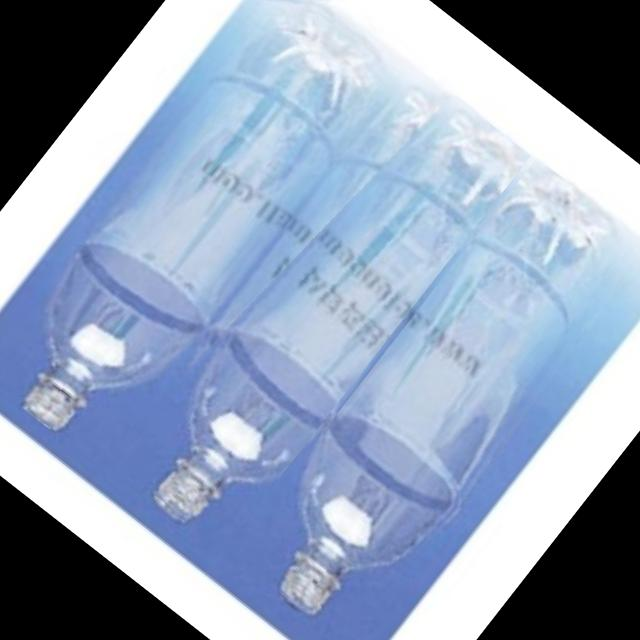plastic bottle: (100, 61, 530, 552), (227, 156, 640, 640), (0, 0, 405, 465)
